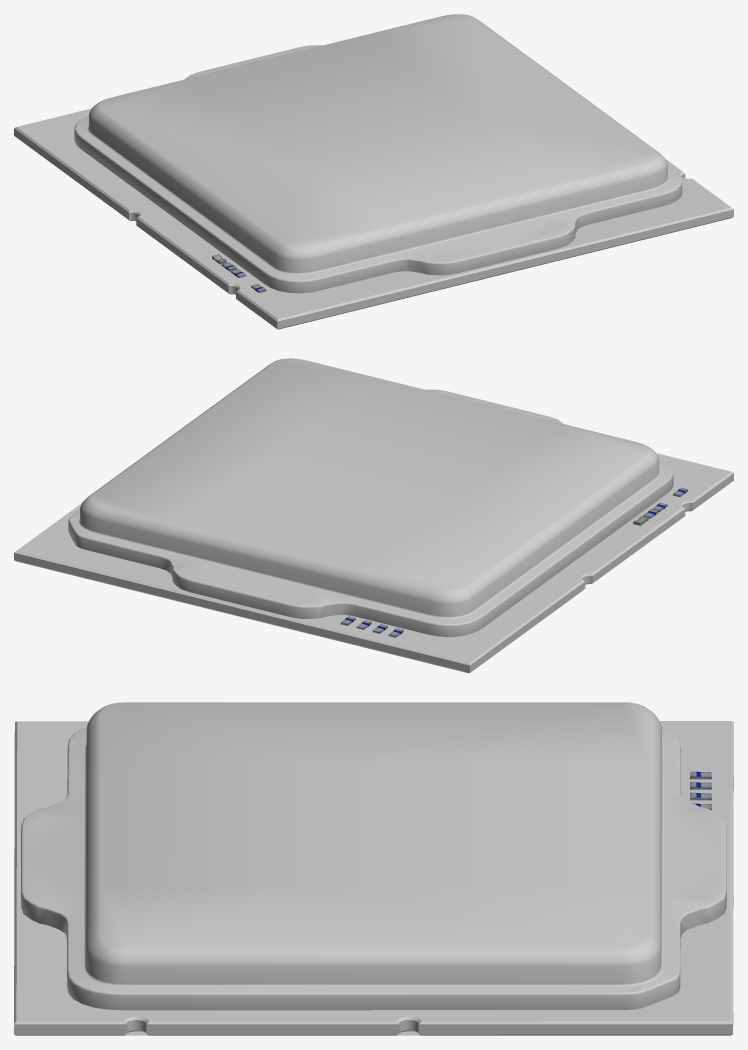
Rendered from cpu.fbx.
3 renders of one model, top to bottom at view 1: azimuth 30°, elevation 25°; view 2: azimuth 150°, elevation 25°; view 3: azimuth 270°, elevation 25°, orthographic. The views are drawn at different scales.
Visible parts, largest first — view 1: Cube.005, Cube.003; view 2: Cube.005, Cube.003, Cube.004; view 3: Cube.005, Cube.003, Cube.004.
Boxes of the visible parts, x1,y1,x2,y2 form: Cube.005: [74, 14, 682, 293]; Cube.003: [14, 108, 733, 329]; Cube.005: [68, 358, 673, 637]; Cube.003: [14, 453, 733, 673]; Cube.004: [340, 487, 687, 637]; Cube.005: [21, 702, 726, 1010]; Cube.003: [14, 721, 733, 1035]; Cube.004: [690, 771, 711, 810].
Bounding box in the file's own units: 4.56 × 0.4831 × 4.56.
